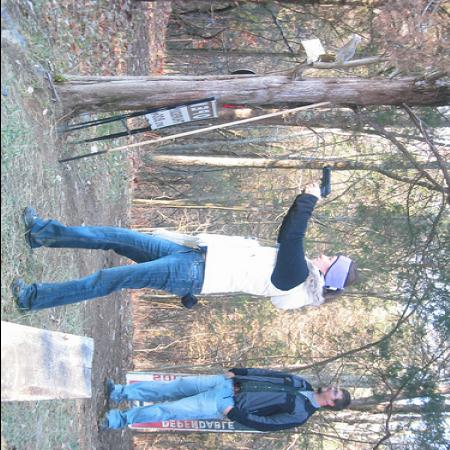Pistol: (318, 166, 335, 201)
